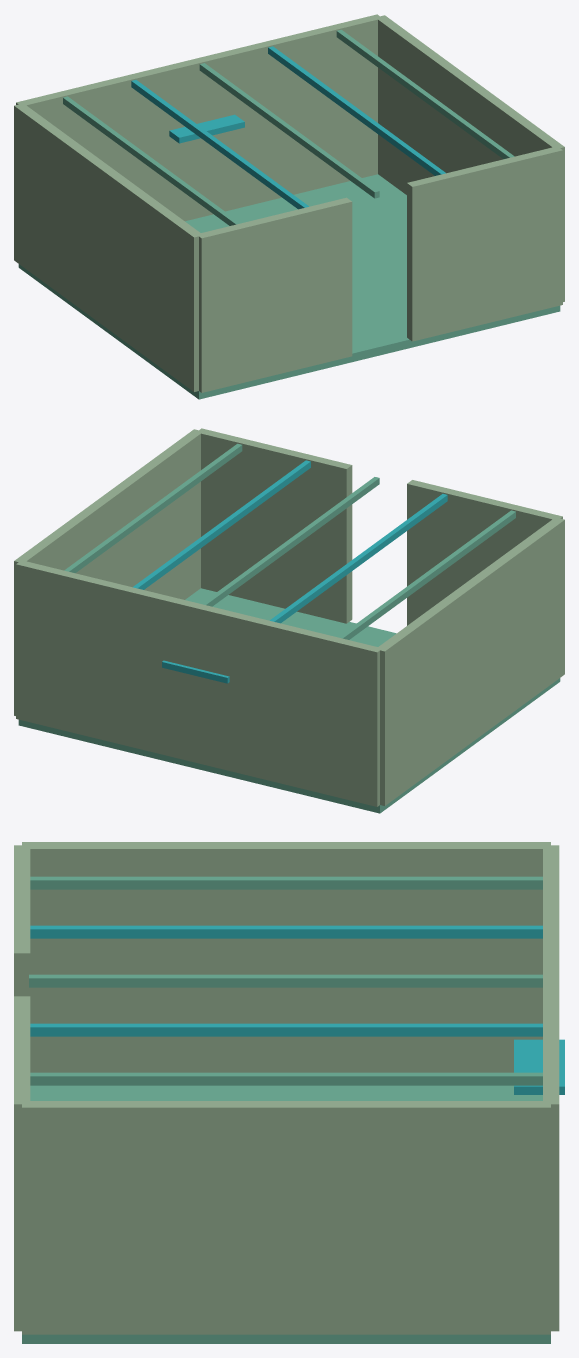
The model's file is shimmering_dock.glb.
3 renders of one model, top to bottom at view 1: azimuth 30°, elevation 25°; view 2: azimuth 150°, elevation 25°; view 3: azimuth 270°, elevation 25°, orthographic. The views are drawn at different scales.
Visible parts, largest first — view 1: wall_north, wall_west, wall_south_right, wall_south_left, wall_east, floor, ceiling_beam_0, ceiling_beam_2, ceiling_beam_-1, ceiling_beam_1, ceiling_beam_-2, purpose_crystal_dock; view 2: wall_north, wall_west, wall_south_right, wall_east, wall_south_left, floor, ceiling_beam_0, ceiling_beam_2, ceiling_beam_-1, ceiling_beam_1, ceiling_beam_-2, purpose_crystal_dock; view 3: wall_east, wall_west, floor, ceiling_beam_0, ceiling_beam_-2, ceiling_beam_-1, ceiling_beam_1, ceiling_beam_2, wall_north, wall_south_right, wall_south_left, purpose_crystal_dock.
Boxes of the visible parts, x1,y1,x2,y2 form: wall_north: (16,14,382,221); wall_west: (14,104,203,391); wall_south_right: (407,146,562,341); wall_south_left: (199,197,352,392); wall_east: (377,15,564,301); floor: (18,174,560,399); ceiling_beam_0: (199,63,379,198); ceiling_beam_2: (336,29,514,159); ceiling_beam_-1: (131,80,308,209); ceiling_beam_1: (268,46,445,175); ceiling_beam_-2: (63,96,240,225); purpose_crystal_dock: (169,114,244,143); wall_north: (16,561,382,806); wall_west: (376,517,564,805); wall_south_right: (197,428,352,623); wall_east: (14,429,203,715); wall_south_left: (407,480,562,625); floor: (18,588,560,813); ceiling_beam_0: (201,477,379,606); ceiling_beam_2: (64,443,242,573); ceiling_beam_-1: (270,494,447,623); ceiling_beam_1: (133,460,310,589); ceiling_beam_-2: (338,510,515,639); purpose_crystal_dock: (162,660,229,683); wall_east: (22,1101,550,1334); wall_west: (22,842,550,1072); floor: (22,1085,550,1343); ceiling_beam_0: (29,974,542,987); ceiling_beam_-2: (30,876,542,889); ceiling_beam_-1: (30,925,542,938); ceiling_beam_1: (30,1023,542,1036); ceiling_beam_2: (30,1072,542,1085); wall_north: (543,845,559,1331); wall_south_right: (14,996,30,1331); wall_south_left: (14,845,30,996); purpose_crystal_dock: (514,1039,564,1094).
Size of what is drawn, in the model's own units: 13.55 by 5.7 by 11.88.
